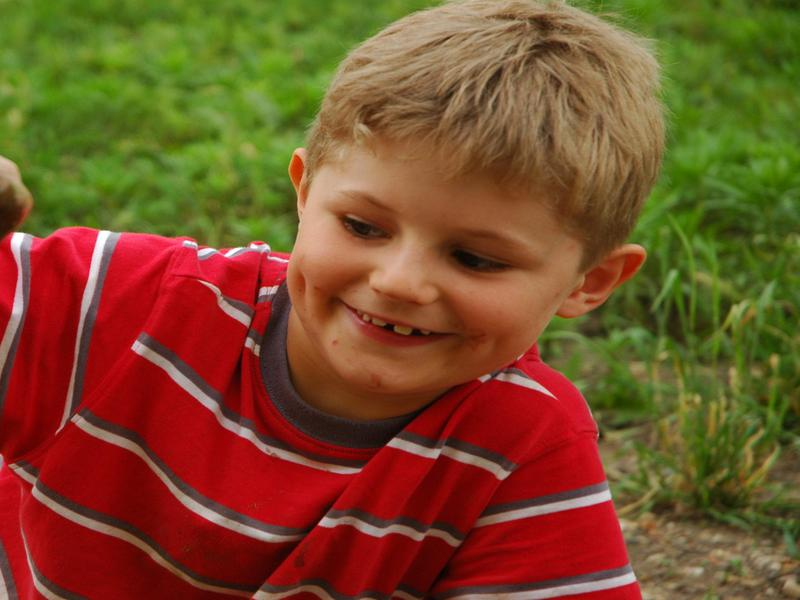person: (1, 1, 665, 598)
